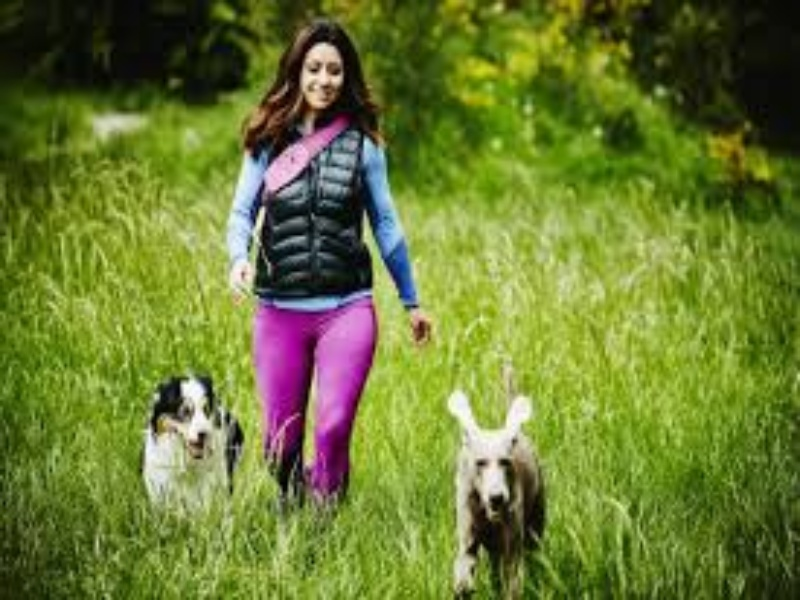dog: (426, 385, 558, 600), (129, 371, 247, 539)
